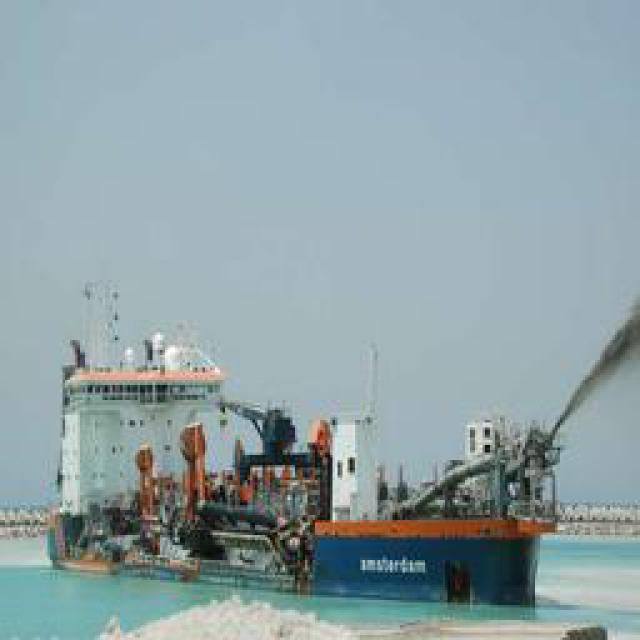Ship: (45, 285, 573, 616)
